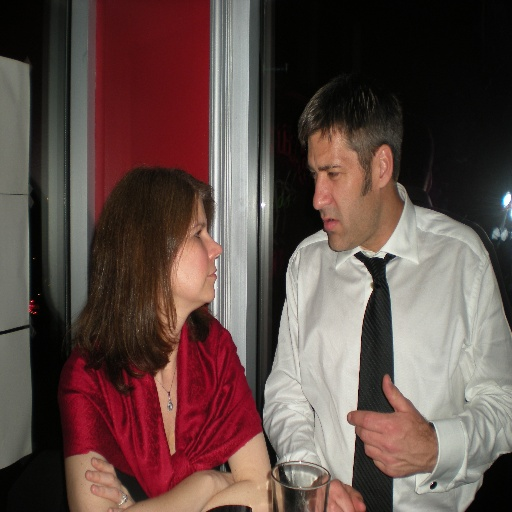hand: (346, 375, 435, 485), (85, 455, 136, 511), (308, 473, 365, 511), (198, 471, 235, 495)
